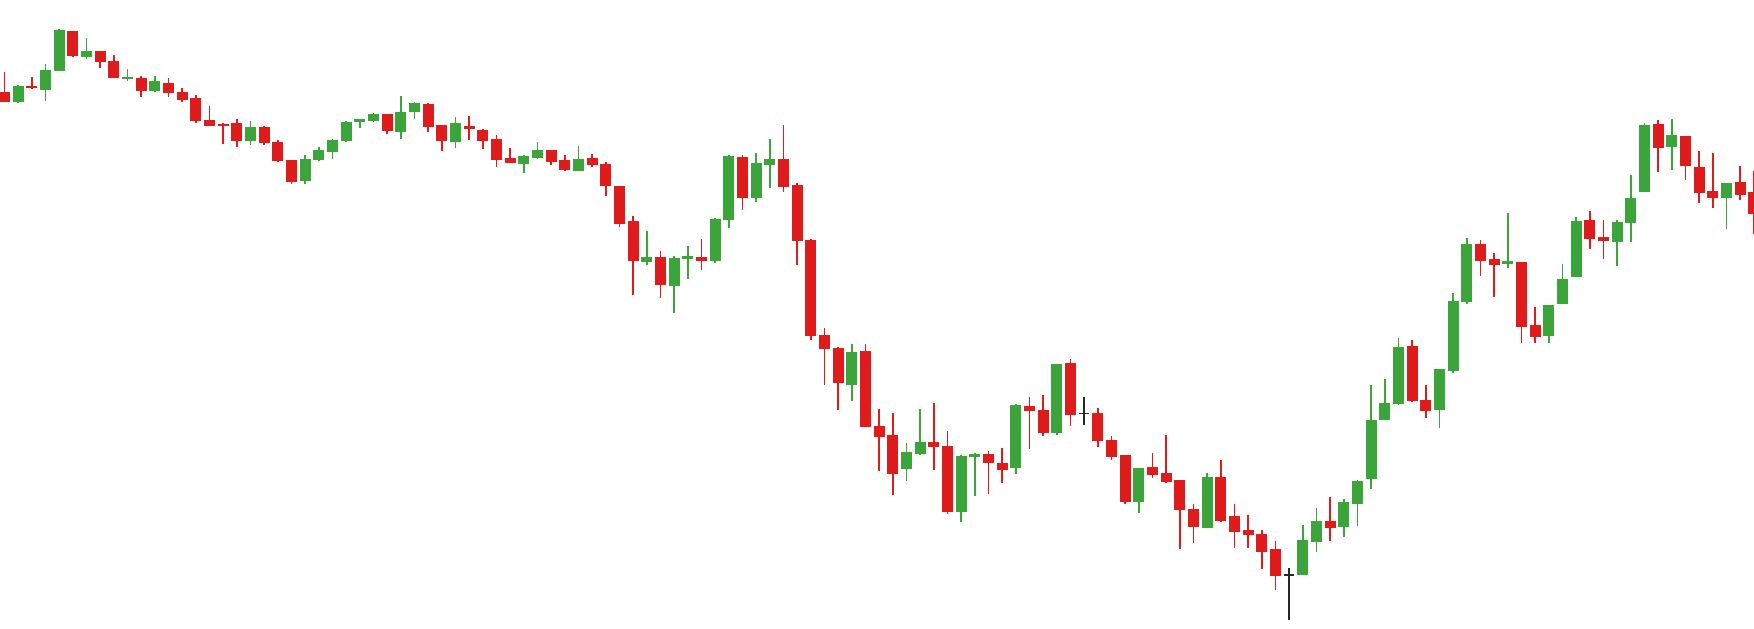buy: (1171, 489, 1309, 622)
